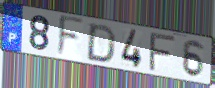4: (119, 28, 143, 70)
6: (180, 39, 206, 79)
8: (27, 14, 52, 53)
D: (85, 22, 118, 64)
F: (55, 13, 86, 59), (147, 32, 178, 73)
